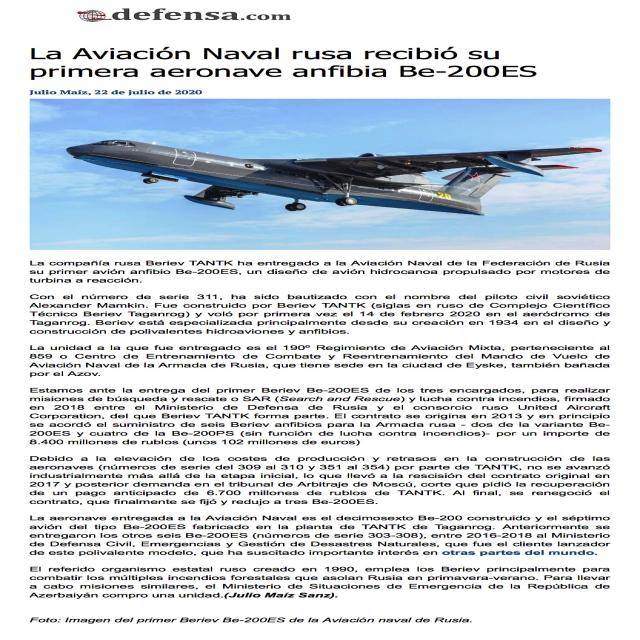MIL_Plane: (0, 139, 346, 216)
